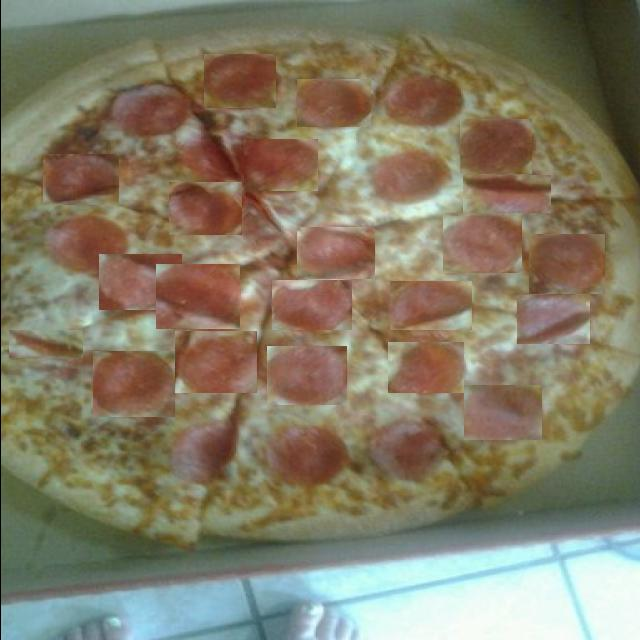pepperoni: (155, 264, 239, 329), (92, 351, 174, 417), (174, 331, 256, 393), (442, 213, 521, 273), (266, 346, 346, 405), (98, 254, 181, 310), (110, 82, 192, 138), (528, 234, 604, 294), (372, 148, 453, 202), (46, 217, 126, 271), (462, 385, 540, 440), (369, 421, 440, 481), (270, 428, 344, 484), (296, 227, 374, 279), (172, 420, 237, 482), (389, 281, 471, 330), (270, 280, 350, 330), (459, 119, 531, 174), (386, 76, 461, 128), (203, 54, 275, 108), (42, 154, 118, 205), (168, 182, 241, 235), (242, 139, 316, 191), (387, 342, 462, 393), (516, 295, 589, 344), (296, 79, 370, 127), (462, 176, 550, 213), (183, 136, 239, 181), (8, 330, 82, 358)
pizza: (0, 28, 640, 550)
